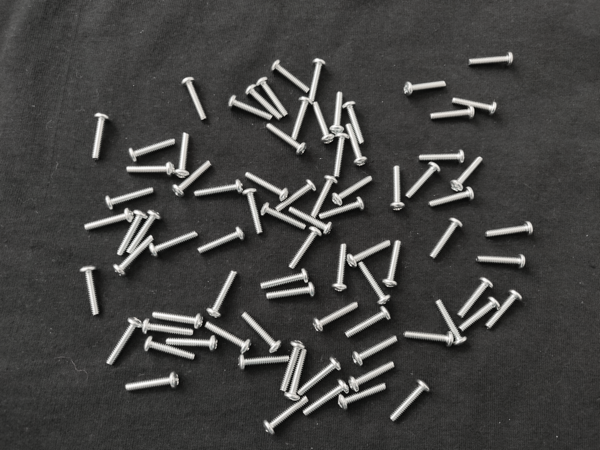longscrew: (387, 378, 433, 426), (106, 317, 143, 369), (262, 396, 310, 436), (112, 235, 156, 278), (302, 379, 349, 419), (240, 311, 283, 354), (297, 356, 342, 397), (484, 289, 524, 334), (351, 333, 400, 368), (343, 307, 393, 341), (346, 361, 396, 395), (125, 208, 160, 256), (433, 299, 468, 347), (115, 209, 149, 258), (337, 381, 389, 413), (287, 226, 323, 272), (172, 159, 213, 199), (457, 277, 495, 320), (458, 296, 501, 334), (206, 269, 238, 320), (427, 217, 463, 262), (203, 322, 252, 355), (263, 122, 309, 157), (313, 301, 360, 335), (356, 260, 390, 306), (273, 178, 316, 214), (259, 201, 307, 233), (345, 238, 393, 270), (268, 59, 311, 94), (331, 174, 376, 207), (143, 336, 196, 364), (244, 84, 284, 121), (405, 161, 442, 201), (149, 231, 200, 260), (243, 170, 289, 202), (278, 340, 305, 394), (196, 227, 246, 256), (255, 76, 289, 118), (287, 205, 333, 235), (227, 94, 273, 124), (180, 75, 209, 122), (310, 175, 339, 222), (104, 186, 156, 212), (123, 371, 181, 394), (308, 99, 337, 145), (449, 156, 484, 194), (82, 207, 133, 233), (78, 263, 102, 318), (127, 137, 177, 163), (316, 195, 366, 221), (89, 111, 112, 164), (259, 268, 309, 292), (285, 350, 307, 403), (343, 121, 368, 167), (235, 352, 292, 372), (427, 186, 476, 209), (342, 100, 367, 145), (381, 238, 403, 289), (151, 309, 204, 330), (140, 318, 195, 338), (263, 282, 318, 302), (402, 329, 457, 349), (241, 186, 263, 235), (289, 96, 312, 142), (451, 96, 499, 118), (164, 335, 219, 354), (193, 179, 245, 199), (465, 50, 516, 70), (484, 220, 534, 240), (123, 160, 178, 178), (332, 241, 350, 295), (402, 77, 450, 97), (475, 253, 528, 270), (307, 57, 326, 104), (331, 130, 349, 179), (173, 132, 191, 180), (389, 165, 406, 214), (427, 105, 475, 122), (329, 91, 347, 136), (417, 148, 467, 164)
